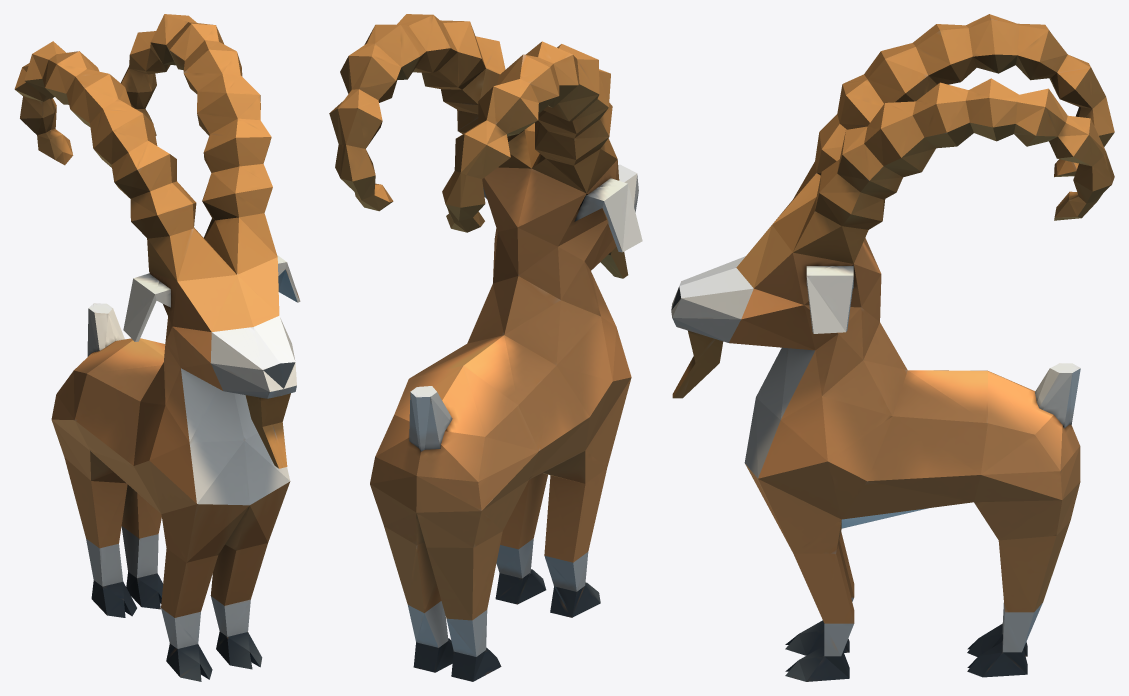
Rendered from goat-horned.glb.
3 views of the same model, side by side, from view 1: azimuth 30°, elevation 25°; view 2: azimuth 150°, elevation 25°; view 3: azimuth 270°, elevation 25° (orthographic). The views are drawn at different scales.
Visible parts, largest first — view 1: goat; view 2: goat; view 3: goat.
Part boxes in pixels (<box>): goat: <box>14,14,300,681</box>; goat: <box>329,14,642,681</box>; goat: <box>671,14,1114,681</box>.
Bounding box in the file's own units: 0.6865 × 2.06 × 1.35.
1 material, 1 textured.
